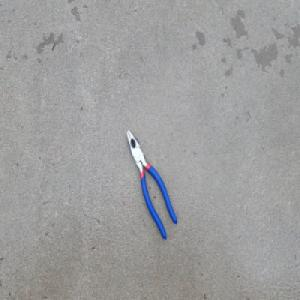Pliers: (125, 126, 178, 241)
